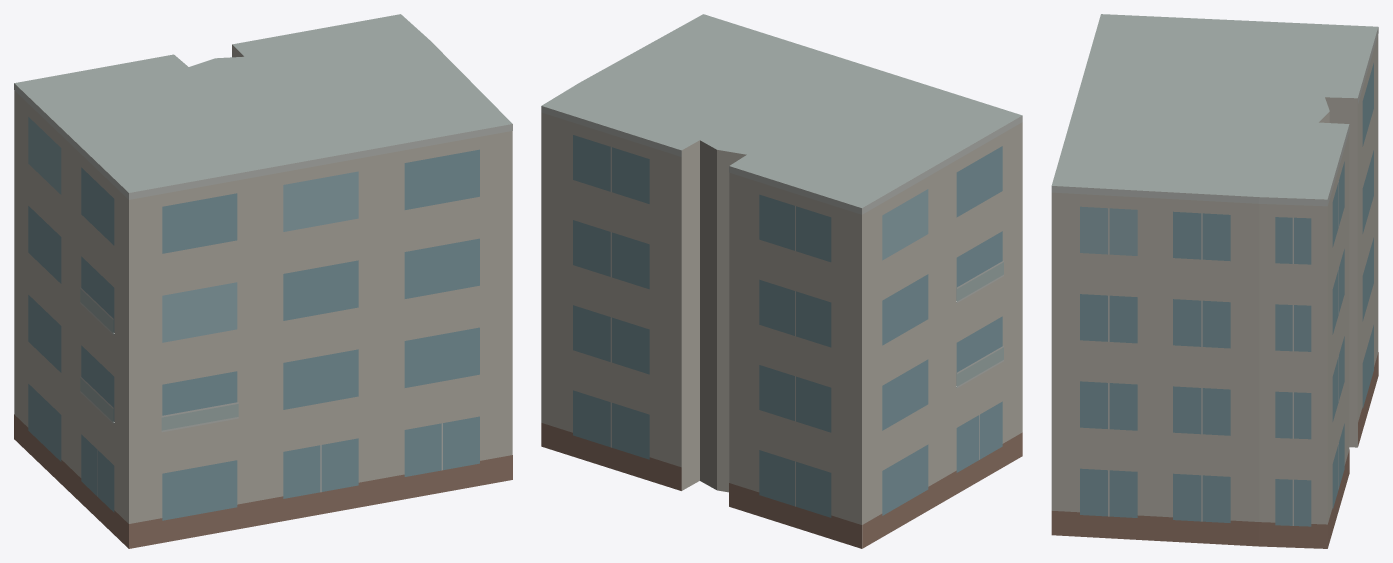
The model's file is survey-upis-33022922.glb.
The picture shows the model from 3 angles, left to right: view 1: azimuth 30°, elevation 25°; view 2: azimuth 150°, elevation 25°; view 3: azimuth 270°, elevation 25°; orthographic projection. The views are drawn at different scales.
Visible parts, largest first — view 1: survey-upis-33022922.tmp; view 2: survey-upis-33022922.tmp; view 3: survey-upis-33022922.tmp.
Part boxes in pixels (x1=…): survey-upis-33022922.tmp: x1=14, y1=14, x2=512, y2=548; survey-upis-33022922.tmp: x1=541, y1=14, x2=1022, y2=548; survey-upis-33022922.tmp: x1=1051, y1=14, x2=1378, y2=548.
Size of the model in its own units: 14.36 by 12.6 by 10.7.
